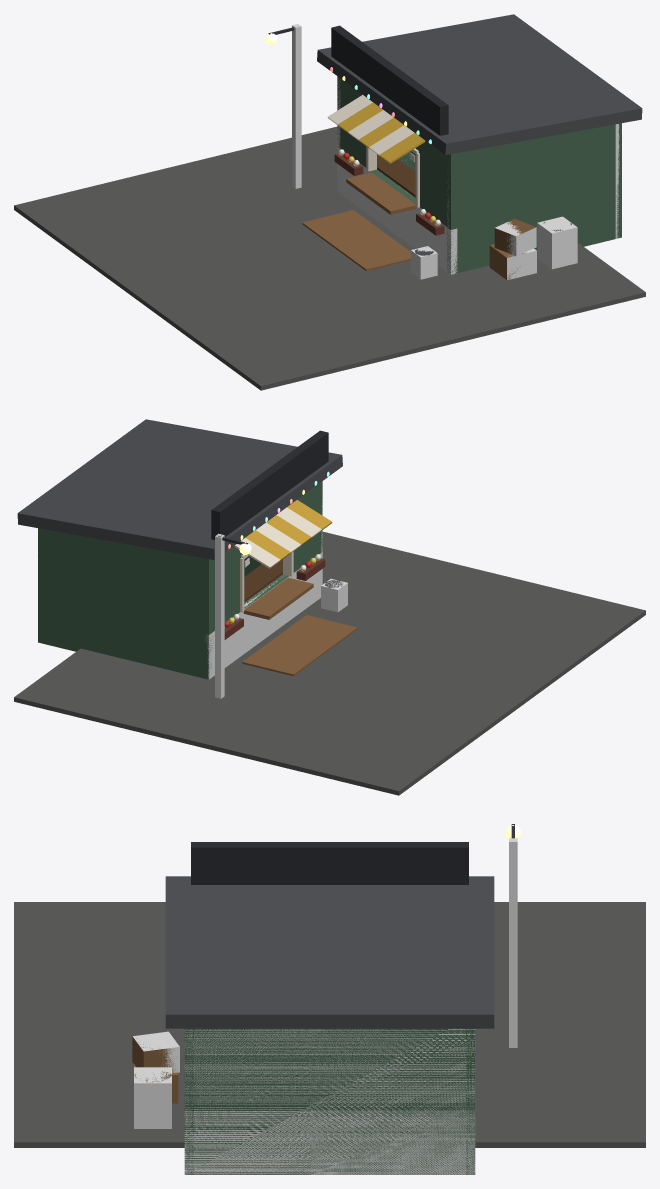
File: booth-14.glb
3 views of the same model, one above another, from view 1: azimuth 30°, elevation 25°; view 2: azimuth 150°, elevation 25°; view 3: azimuth 270°, elevation 25° (orthographic). The views are drawn at different scales.
Parts seen in each view (by area): view 1: 30_#5a5a58_noshadow, 31_#4c4e52, 20_#4a6a52, 32_#2a2c30_noshadow, 04_#8a6440_noshadow, solid.008, 21_#4a6a52_r320, 00_#e8e0d0_noshadow_r320, 09_#8a6440_r320, solid.003, 01_#c9a13a_noshadow_r320, solid.004 (+6 smaller); view 2: 30_#5a5a58_noshadow, 31_#4c4e52, 20_#4a6a52, 32_#2a2c30_noshadow, 04_#8a6440_noshadow, solid.008, 21_#4a6a52_r320, 00_#e8e0d0_noshadow_r320, solid.004, 01_#c9a13a_noshadow_r320, 09_#8a6440_r320, 25_#5a3e26_noshadow (+2 smaller); view 3: 30_#5a5a58_noshadow, 31_#4c4e52, 20_#4a6a52, solid.005, 32_#2a2c30_noshadow, solid.003, solid.004, solid.002, 10_#7a5a3a_r110.
Boxes of the visible parts, box(x1,y1,x2,y2) form: 30_#5a5a58_noshadow: box(14, 126, 645, 390); 31_#4c4e52: box(317, 14, 642, 154); 20_#4a6a52: box(337, 76, 621, 273); 32_#2a2c30_noshadow: box(331, 25, 448, 135); 04_#8a6440_noshadow: box(302, 210, 410, 271); solid.008: box(337, 147, 457, 274); 21_#4a6a52_r320: box(341, 96, 457, 229); 00_#e8e0d0_noshadow_r320: box(327, 95, 419, 207); 09_#8a6440_r320: box(346, 172, 525, 280); solid.003: box(537, 216, 577, 269); 01_#c9a13a_noshadow_r320: box(338, 102, 425, 163); solid.004: box(292, 24, 301, 188); 30_#5a5a58_noshadow: box(14, 531, 645, 795); 31_#4c4e52: box(17, 419, 342, 559); 20_#4a6a52: box(38, 481, 322, 679); 32_#2a2c30_noshadow: box(211, 430, 328, 539); 04_#8a6440_noshadow: box(242, 615, 357, 676); solid.008: box(205, 552, 322, 679); 21_#4a6a52_r320: box(202, 501, 322, 634); 00_#e8e0d0_noshadow_r320: box(234, 507, 321, 612); solid.004: box(215, 533, 224, 698); 01_#c9a13a_noshadow_r320: box(245, 500, 332, 560); 09_#8a6440_r320: box(243, 577, 313, 619); 25_#5a3e26_noshadow: box(244, 559, 282, 601); 30_#5a5a58_noshadow: box(14, 902, 645, 1147); 31_#4c4e52: box(165, 876, 494, 1028); 20_#4a6a52: box(184, 1028, 475, 1174); solid.005: box(184, 1028, 475, 1174); 32_#2a2c30_noshadow: box(191, 842, 468, 884); solid.003: box(134, 1067, 171, 1128); solid.004: box(509, 838, 517, 1047); solid.002: box(133, 1031, 179, 1072); 10_#7a5a3a_r110: box(132, 1036, 177, 1073).
Bounding box in the file's own units: 10.3 × 3.85 × 10.
